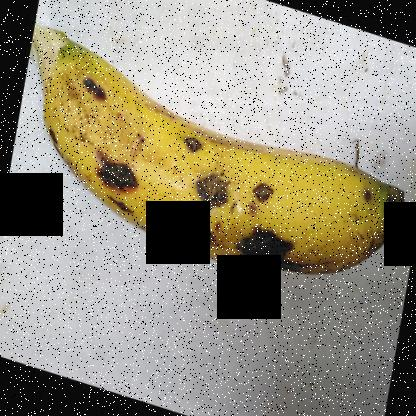rotten: (232, 217, 309, 292), (87, 140, 140, 208), (186, 161, 233, 215), (76, 65, 116, 114), (184, 212, 222, 262), (242, 154, 277, 208), (179, 123, 215, 169)
